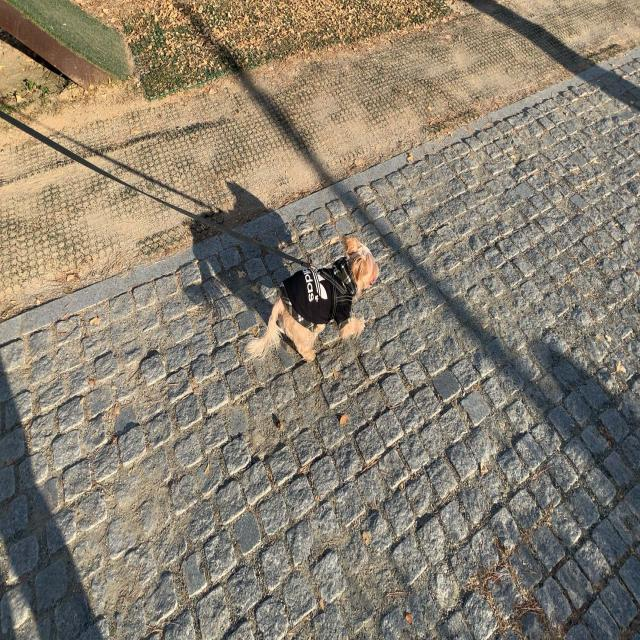Dog: (243, 234, 379, 368)
